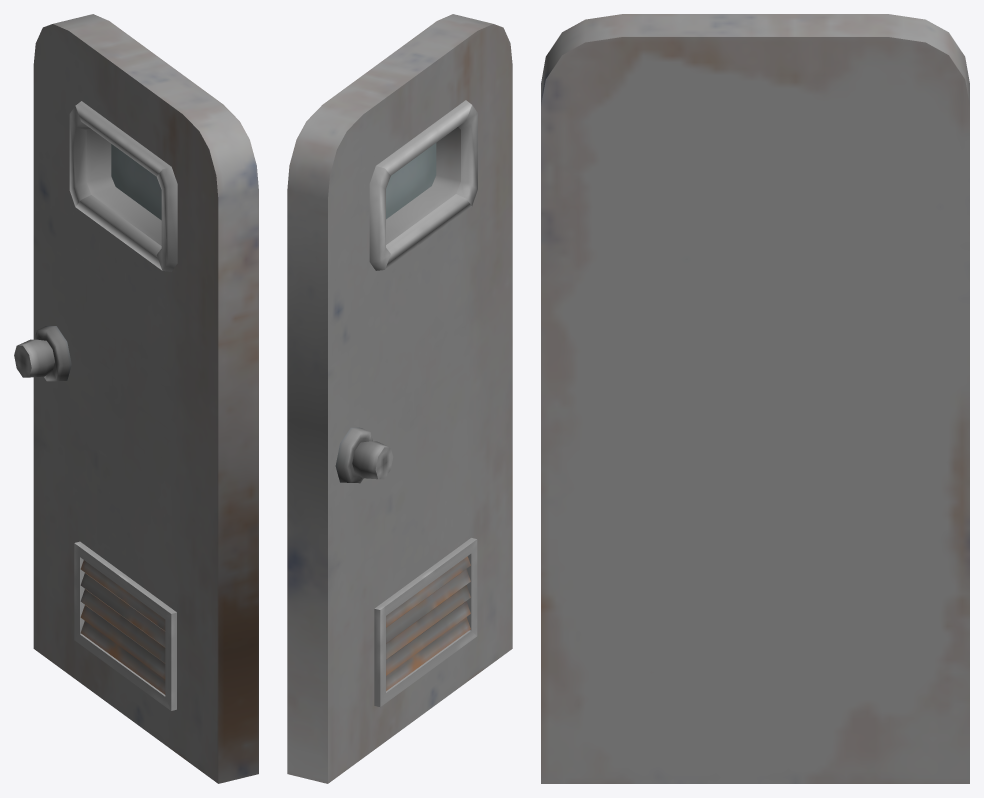
The model's file is SM_Door.fbx.
3 views of the same model, side by side, from view 1: azimuth 30°, elevation 25°; view 2: azimuth 150°, elevation 25°; view 3: azimuth 270°, elevation 25° (orthographic). The views are drawn at different scales.
Parts seen in each view (by area): view 1: OutDoor; view 2: OutDoor; view 3: OutDoor.
Part boxes in pixels (x1,y1,x2,y2): OutDoor: [14, 14, 258, 783]; OutDoor: [287, 14, 512, 783]; OutDoor: [541, 14, 969, 783].
Bounding box in the file's own units: 0.2416 × 2 × 1.04.
Materials: 1 (1 with a texture image).
